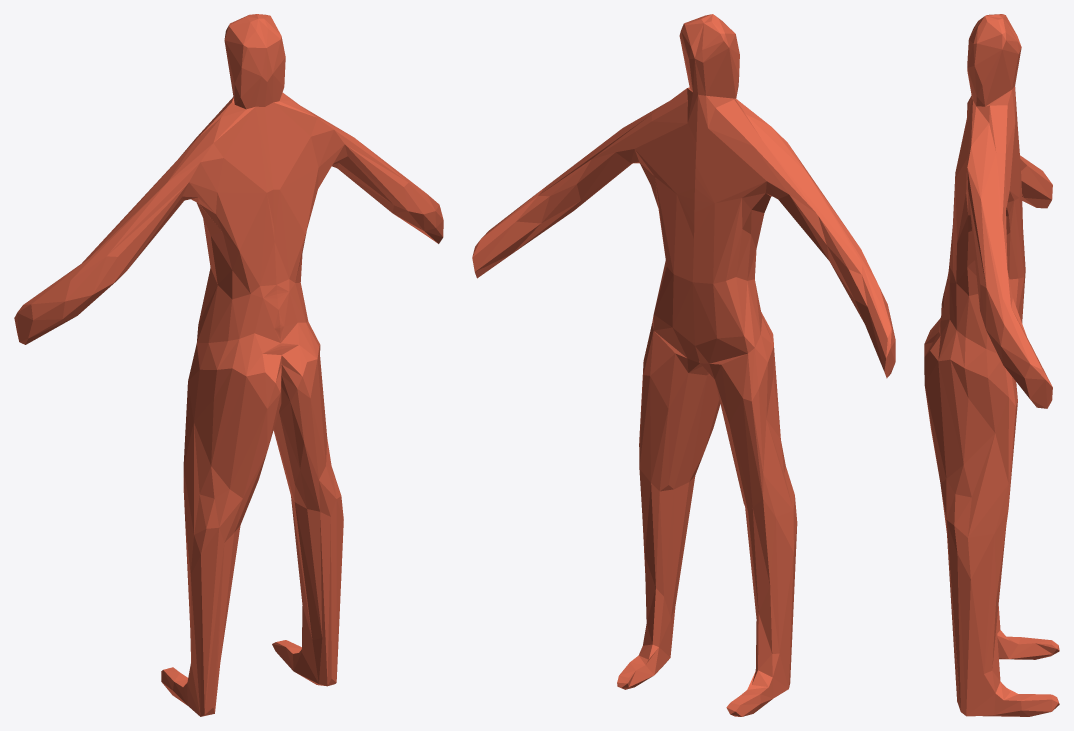
The model's file is Jeff_2.fbx.
3 views of the same model, side by side, from view 1: azimuth 30°, elevation 25°; view 2: azimuth 150°, elevation 25°; view 3: azimuth 270°, elevation 25° (orthographic).
Visible parts, largest first — view 1: Cube; view 2: Cube; view 3: Cube.
Boxes of the visible parts, box(x1,y1,x2,y2) form: Cube: box(14, 14, 443, 716); Cube: box(472, 14, 895, 716); Cube: box(924, 14, 1059, 716).
Bounding box in the file's own units: 414 × 637 × 117.
